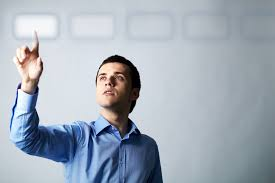hand: (13, 24, 53, 85)
